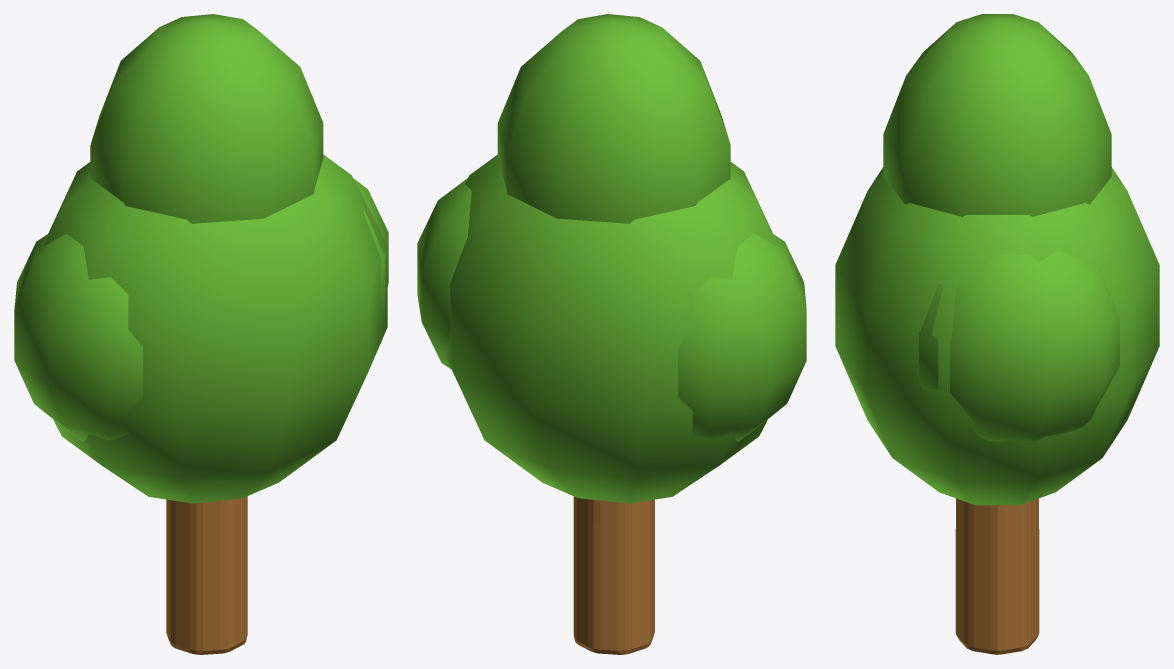
File: tree.glb
3 renders of one model, left to right at view 1: azimuth 30°, elevation 25°; view 2: azimuth 150°, elevation 25°; view 3: azimuth 270°, elevation 25°, orthographic.
Visible parts, largest first — view 1: leaf_mesh, wood_mesh; view 2: leaf_mesh, wood_mesh; view 3: leaf_mesh, wood_mesh.
Part boxes in pixels (x1,y1,x2,y2): leaf_mesh: (14,14,388,503); wood_mesh: (166,496,247,654); leaf_mesh: (417,14,806,503); wood_mesh: (573,496,654,654); leaf_mesh: (835,14,1159,505); wood_mesh: (955,498,1039,654).
Bounding box in the file's own units: 1.3 × 2.22 × 1.05.
